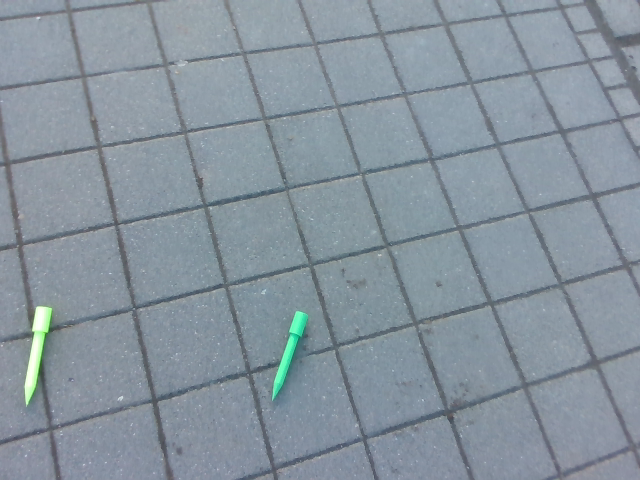Probe: (267, 306, 313, 408), (20, 300, 56, 408)
